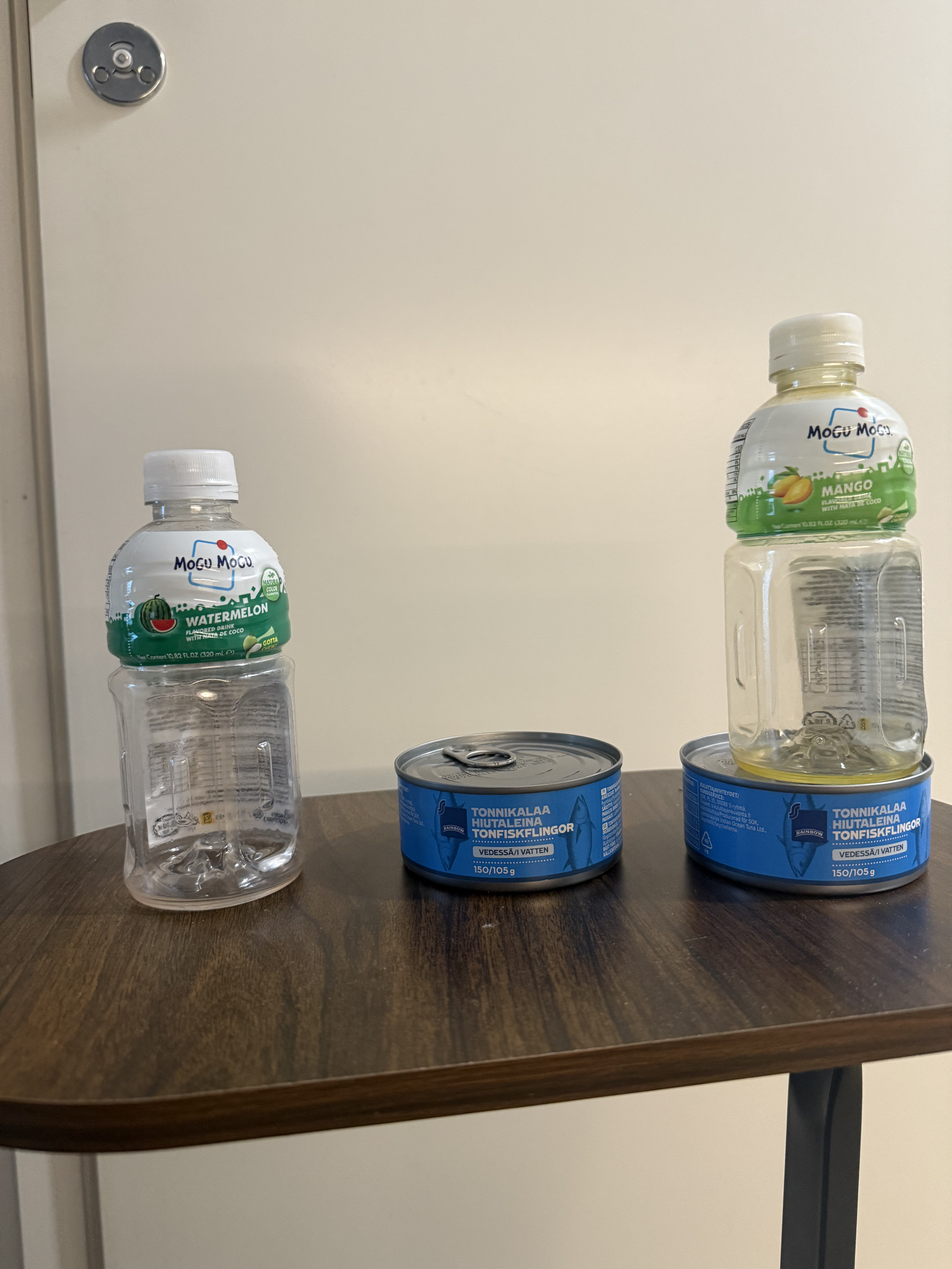Konservburk: (683, 760, 941, 896), (388, 736, 620, 882)
Pantburk: (98, 450, 309, 909), (723, 303, 928, 760)
